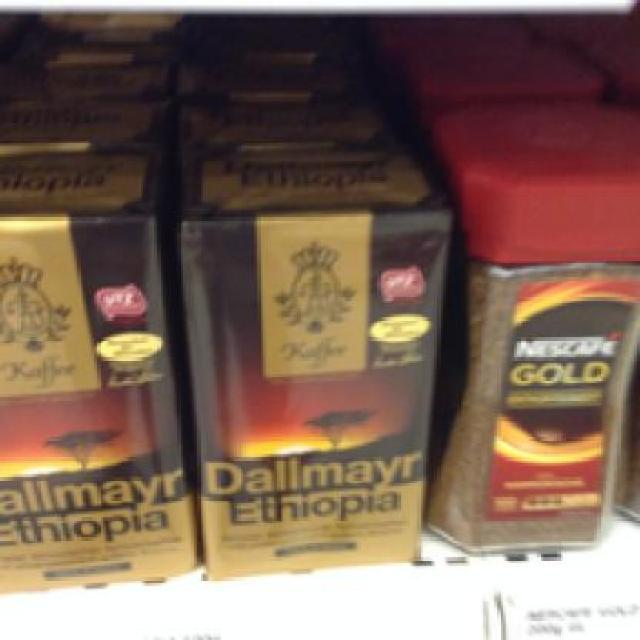Coffee: (174, 142, 443, 568), (420, 97, 637, 552), (0, 148, 197, 588)
